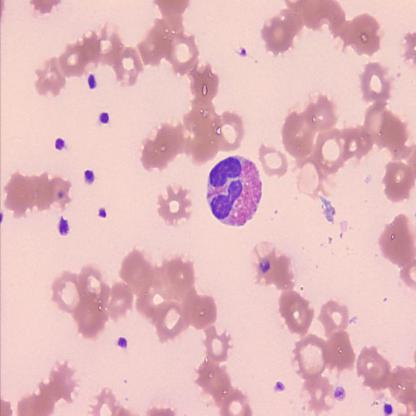Eosinophil: (207, 156, 262, 227)
